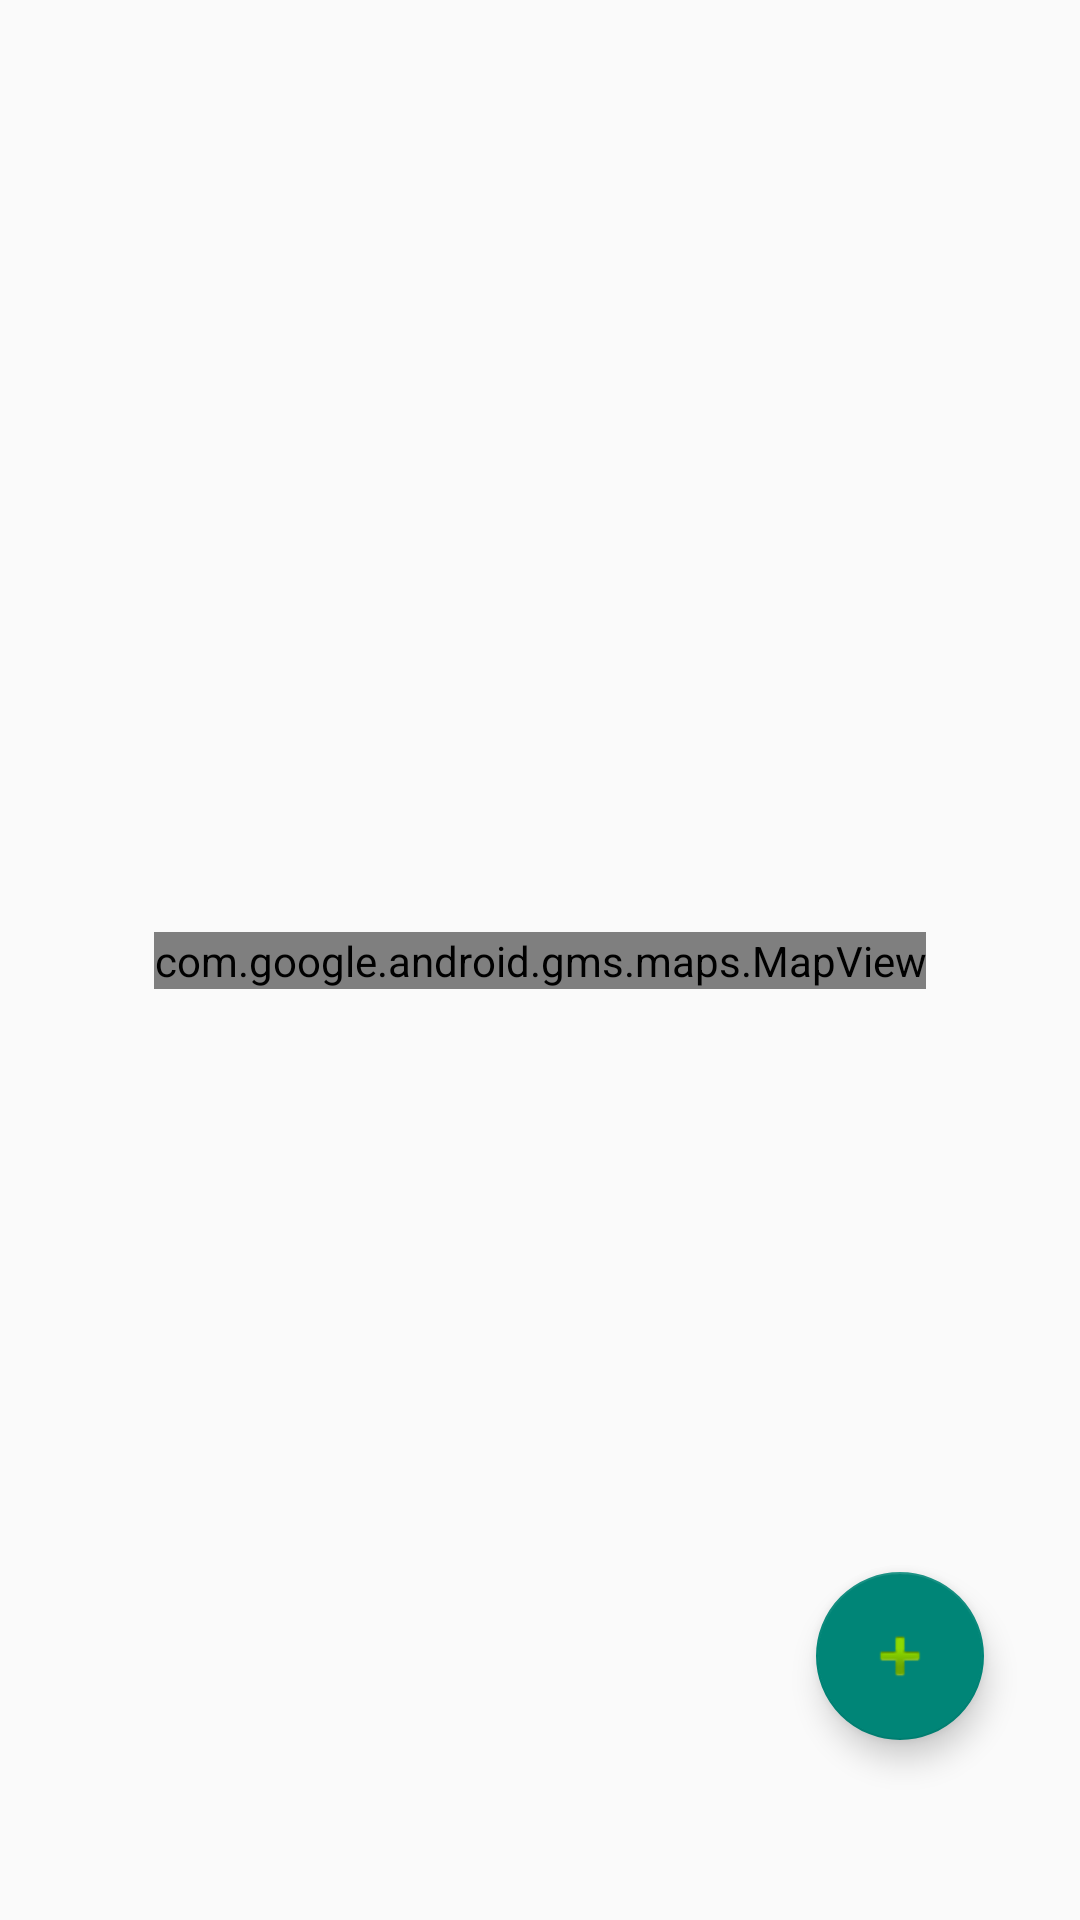

Icon click points for this 1080 x 1920 phone screenshot, format point (x, y):
add: point (900, 1656)
